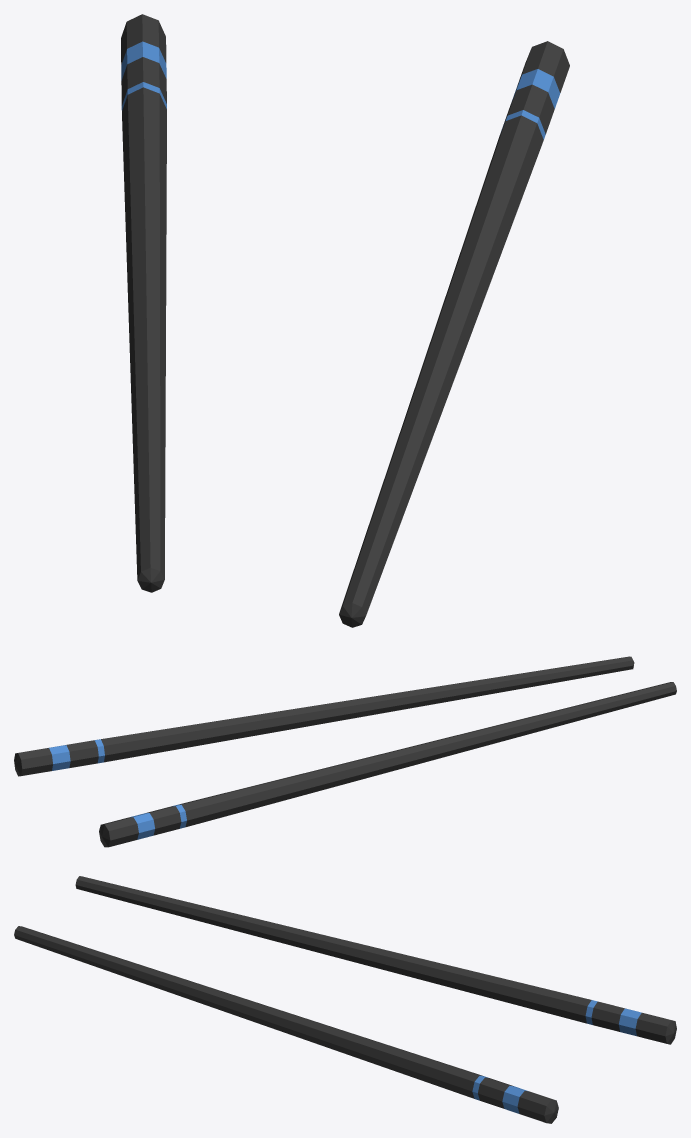
Rendered from Chopsticks_2.fbx.
3 renders of one model, top to bottom at view 1: azimuth 30°, elevation 25°; view 2: azimuth 150°, elevation 25°; view 3: azimuth 270°, elevation 25°, orthographic. The views are drawn at different scales.
Visible parts, largest first — view 1: Chopsticks_2; view 2: Chopsticks_2; view 3: Chopsticks_2.
Part boxes in pixels (x1=…): Chopsticks_2: x1=121, y1=14, x2=569, y2=627; Chopsticks_2: x1=14, y1=656, x2=676, y2=847; Chopsticks_2: x1=14, y1=876, x2=676, y2=1123.
Bounding box in the file's own units: 17.88 × 22.58 × 1.22.
